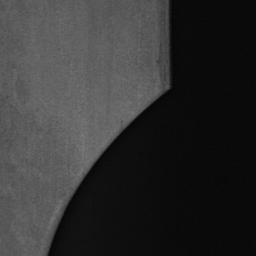Crescent gap: (48, 89, 169, 256)
